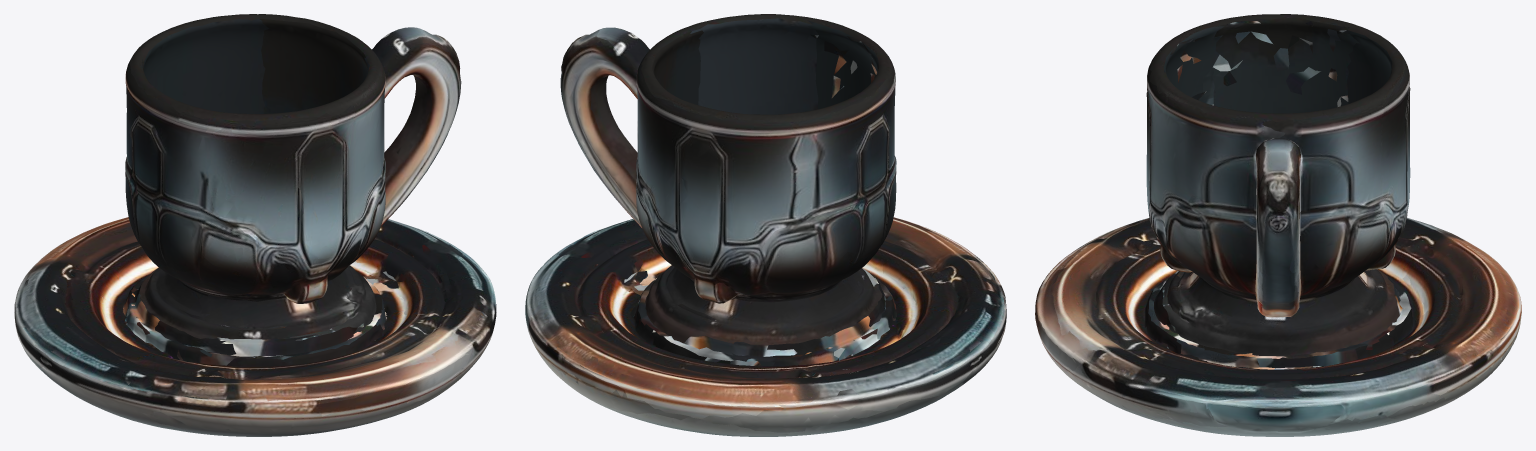
File: service-a-the-futuriste.glb
The picture shows the model from 3 angles, left to right: view 1: azimuth 30°, elevation 25°; view 2: azimuth 150°, elevation 25°; view 3: azimuth 270°, elevation 25°; orthographic projection.
Parts seen in each view (by area): view 1: geometry_0_Material_0_0; view 2: geometry_0_Material_0_0; view 3: geometry_0_Material_0_0.
Boxes of the visible parts, x1,y1,x2,y2 form: geometry_0_Material_0_0: [14, 14, 496, 436]; geometry_0_Material_0_0: [525, 14, 1006, 436]; geometry_0_Material_0_0: [1035, 14, 1521, 436].
Size of the model in its own units: 2.01 by 1.34 by 1.99.
Materials: 1 (1 with a texture image).
